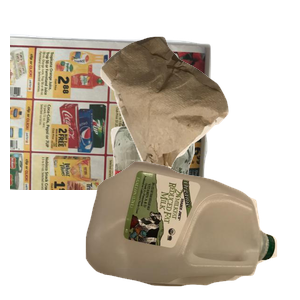glass: (98, 120, 286, 300)
paper: (10, 31, 214, 211)
plastic: (83, 159, 300, 300)
trash: (98, 34, 300, 211)
